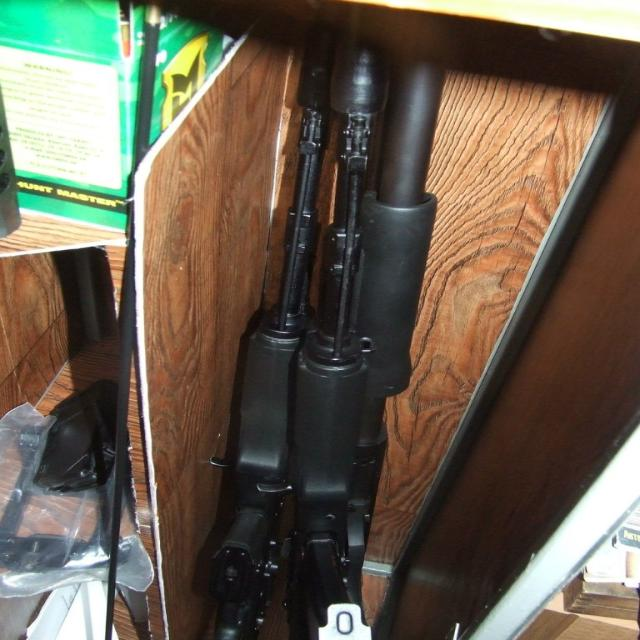firearm: (200, 0, 352, 640), (275, 7, 406, 640)
